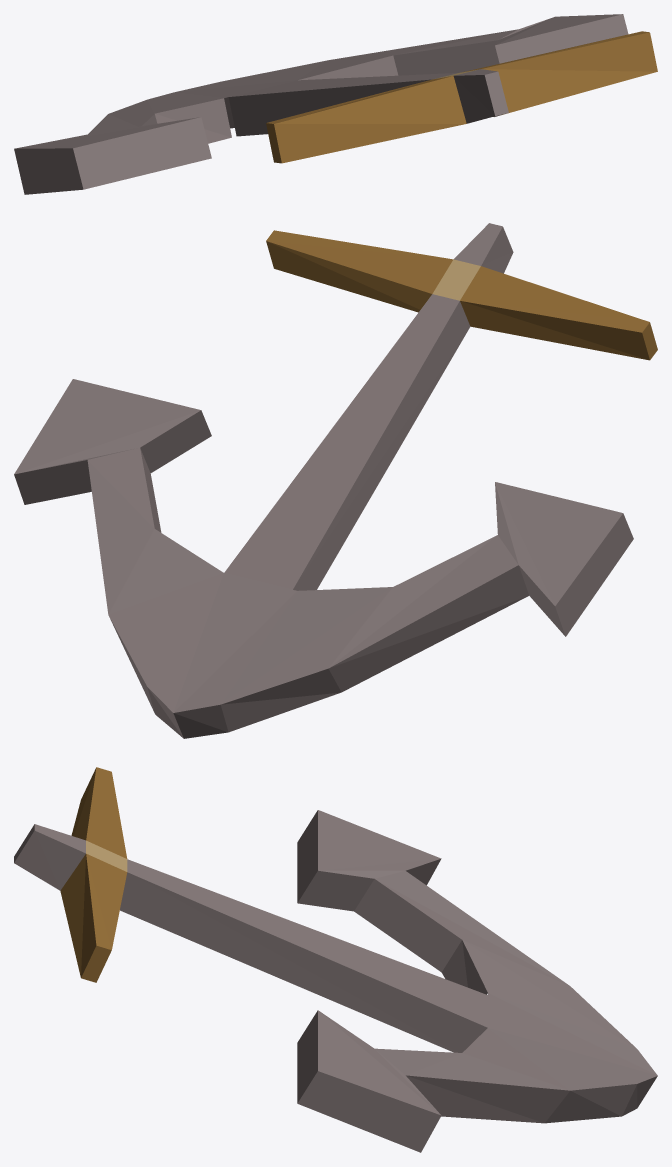
The model's file is obj_anchor_0.obj.
3 views of the same model, one above another, from view 1: azimuth 30°, elevation 25°; view 2: azimuth 150°, elevation 25°; view 3: azimuth 270°, elevation 25° (orthographic). The views are drawn at different scales.
Size of the model in its own units: 0.9375 by 0.4688 by 0.9766.
